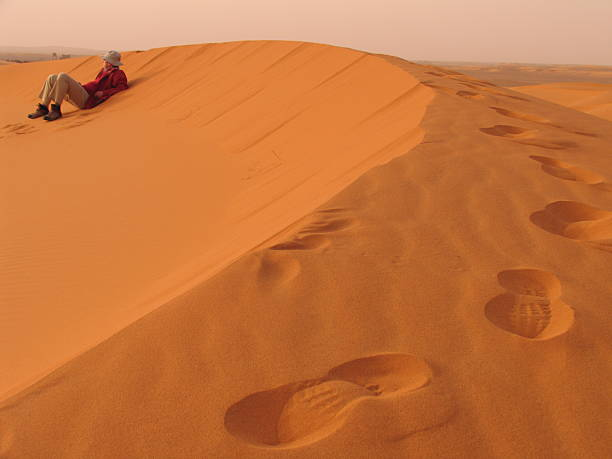human_footprint: (225, 353, 431, 447), (485, 268, 573, 339), (530, 201, 611, 250), (270, 210, 355, 249), (489, 106, 596, 136), (530, 155, 611, 190), (480, 124, 576, 149)
